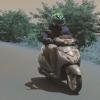motorcycles: (34, 34, 86, 94)
